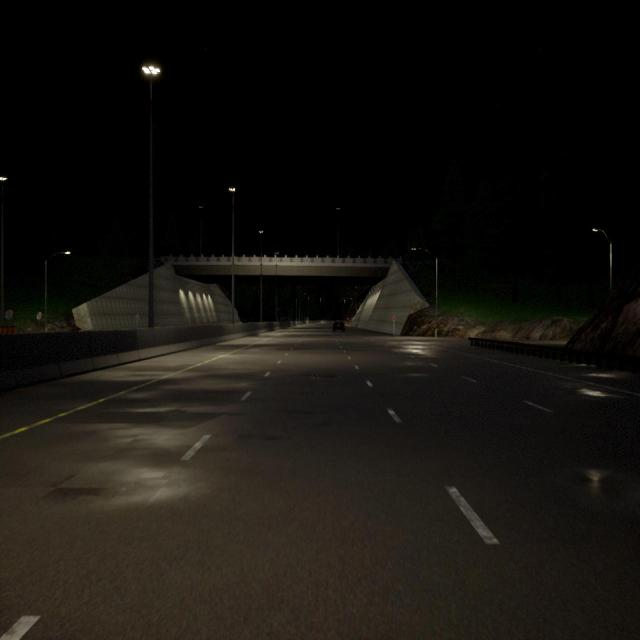Traffic_Signs: (5, 310, 13, 320), (36, 312, 42, 320), (392, 316, 396, 322), (136, 314, 140, 319)
Vehicle: (333, 320, 345, 332)
